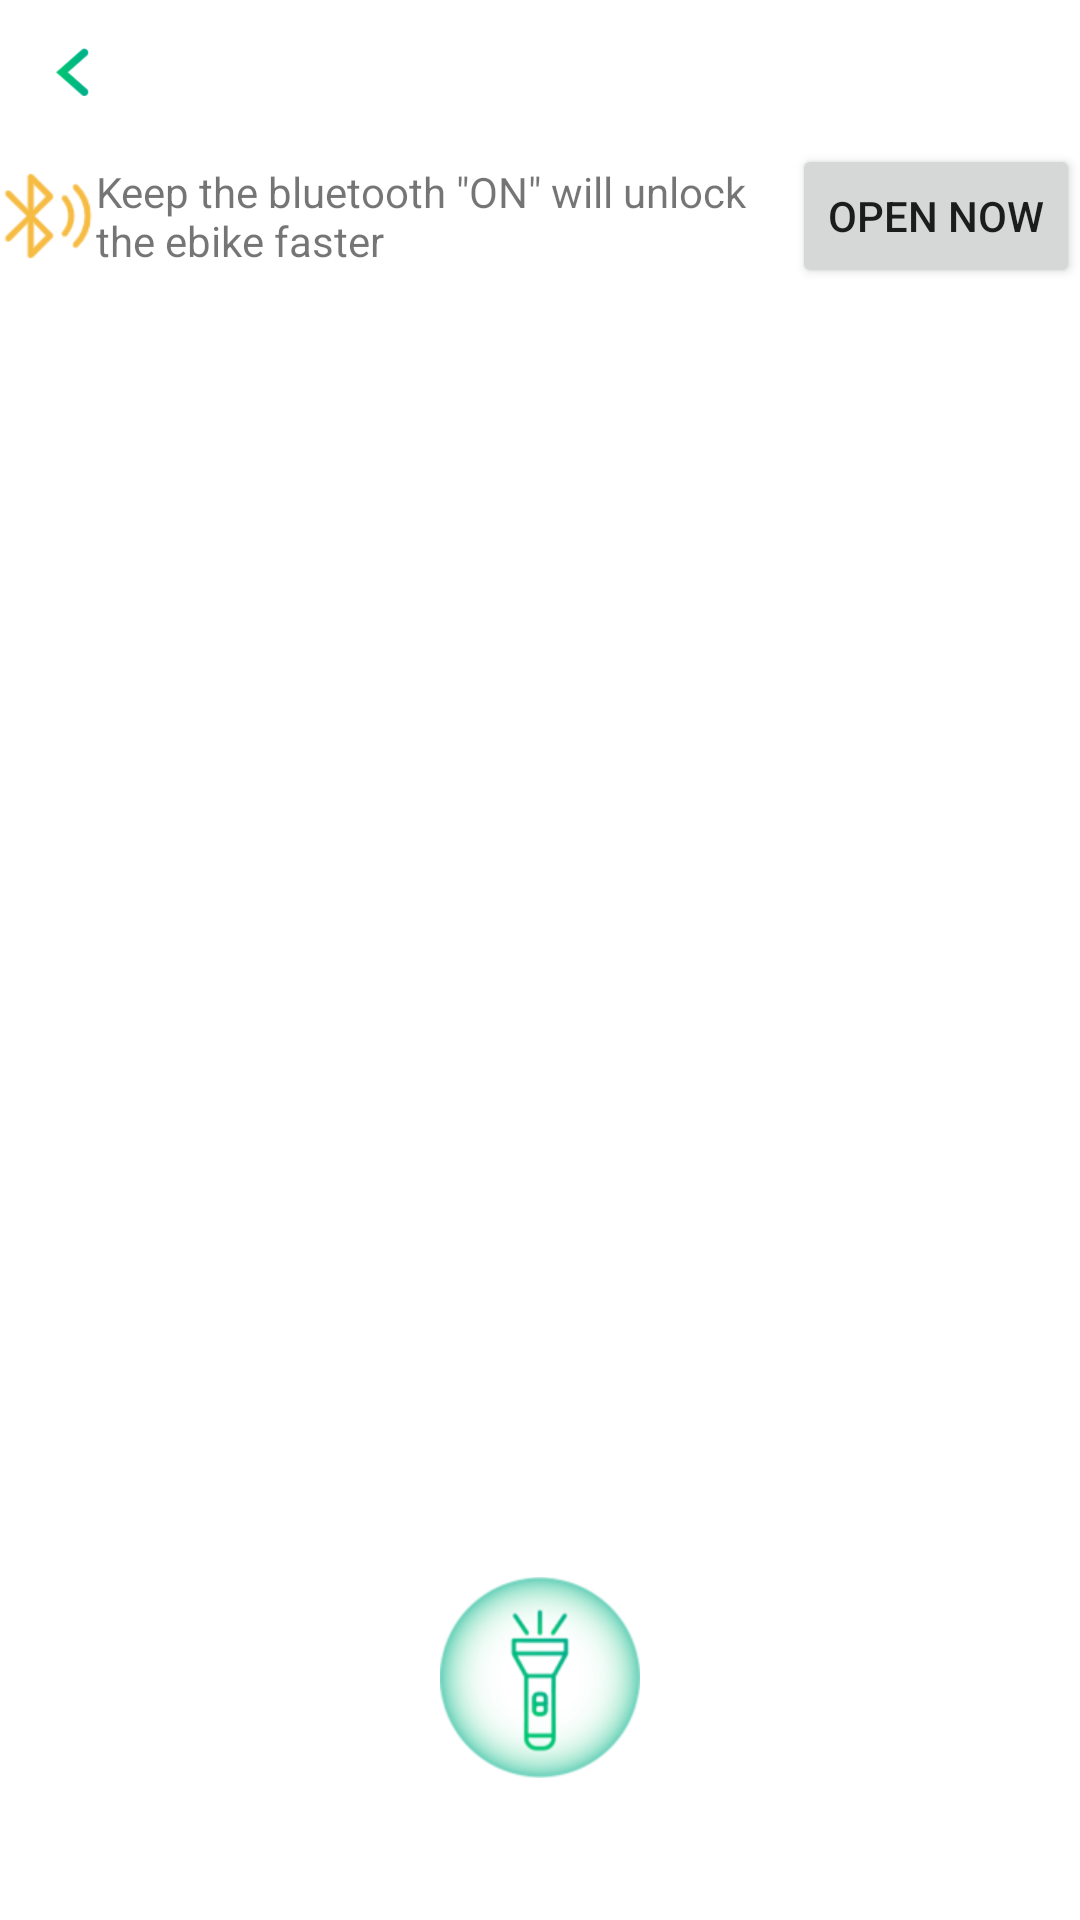

Named icons in this screenshot (1080w x 1920h) and their centers, (x=x, y=y):
back: (x=72, y=72)
